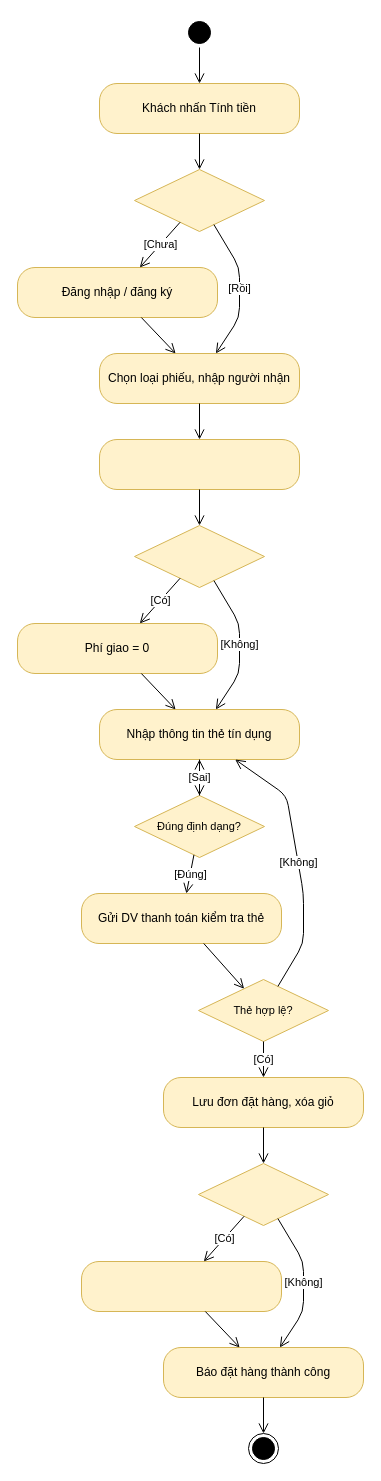
The diagram is 381 pixels wide and 1481 high, and some of its shapes have lost their labels. The shapes that lost their labels are listed below. From the top down, each one's centre as x and y in pixels, then its label:
At [199,200]: "Đã đăng nhập?".
At [199,464]: "Tính tiền hàng + phí giao".
At [199,556]: "Đủ mức miễn phí?".
At [263,1194]: "Có email?".
At [181,1286]: "Gửi email xác nhận".
